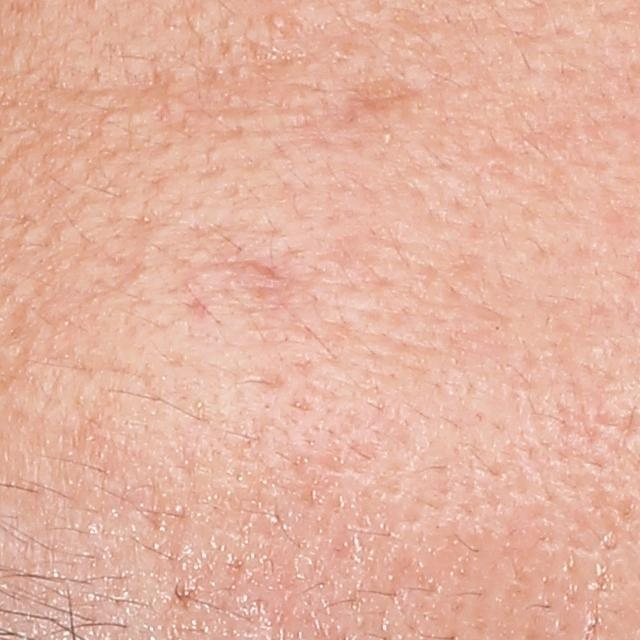atrophic_scar: (350, 77, 425, 112), (114, 68, 177, 107)
comedo: (269, 11, 294, 30)
